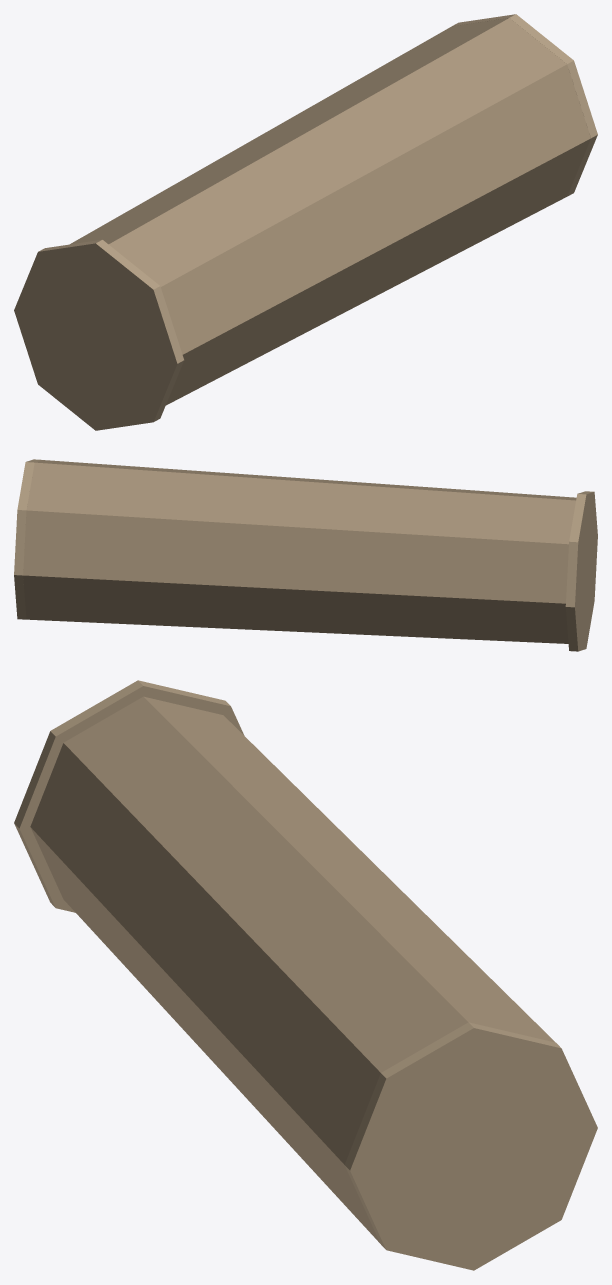
Rendered from nature_log_01.glb.
3 renders of one model, top to bottom at view 1: azimuth 30°, elevation 25°; view 2: azimuth 150°, elevation 25°; view 3: azimuth 270°, elevation 25°, orthographic. The views are drawn at different scales.
Visible parts, largest first — view 1: geometry_0; view 2: geometry_0; view 3: geometry_0.
Boxes of the visible parts, left/top/right/bottom form: geometry_0: left=14, top=14, right=597, bottom=430; geometry_0: left=14, top=459, right=597, bottom=651; geometry_0: left=14, top=680, right=597, bottom=1270.
Size of the model in its own units: 1.91 by 0.5533 by 1.21.
